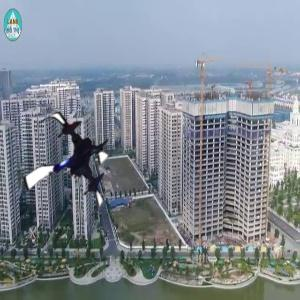drone: (13, 112, 126, 225)
